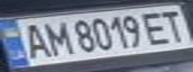0: (90, 16, 112, 52)
1: (106, 12, 127, 50)
8: (69, 16, 97, 53)
9: (121, 11, 148, 48)
A: (15, 20, 54, 60)
E: (139, 8, 175, 46)
M: (36, 18, 72, 56)
T: (154, 7, 193, 43)
